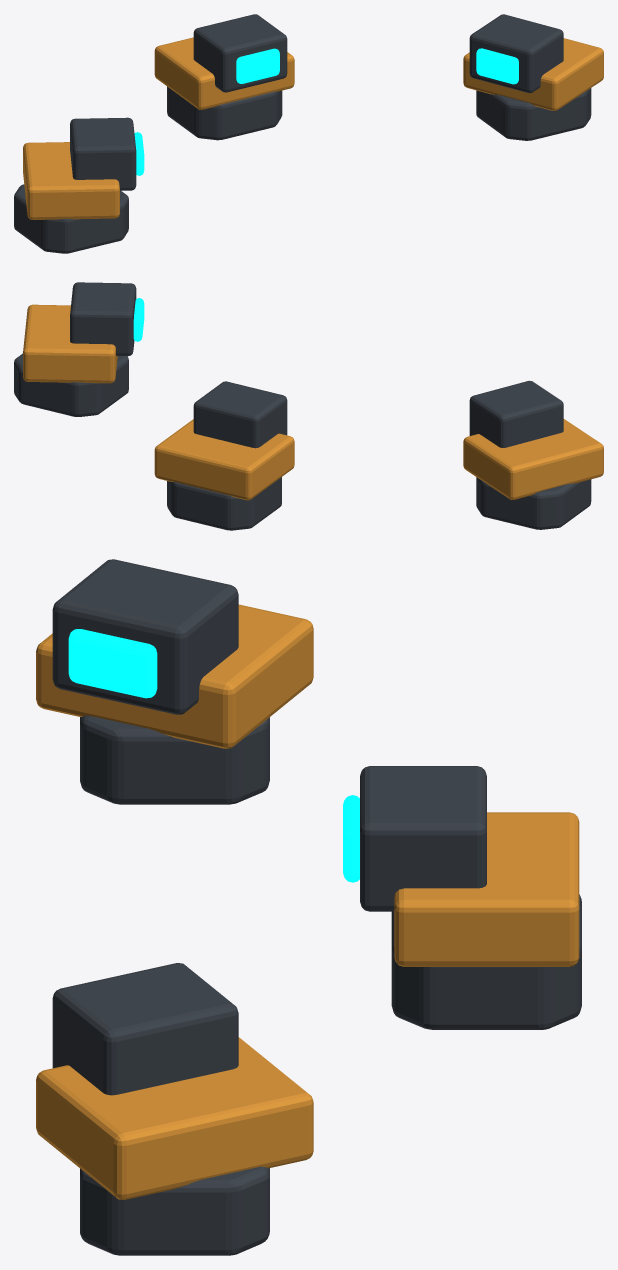
The model's file is SM_RobotCenter_FormScanner.fbx.
The picture shows the model from 3 angles, top to bottom: view 1: azimuth 30°, elevation 25°; view 2: azimuth 150°, elevation 25°; view 3: azimuth 270°, elevation 25°; orthographic projection. The views are drawn at different scales.
Visible parts, largest first — view 1: SM_RobotCenter_FormScanner.001; view 2: SM_RobotCenter_FormScanner.001; view 3: SM_RobotCenter_FormScanner.001.
Part boxes in pixels (x1,y1,x2,y2): SM_RobotCenter_FormScanner.001: [14, 14, 603, 253]; SM_RobotCenter_FormScanner.001: [14, 282, 603, 530]; SM_RobotCenter_FormScanner.001: [36, 559, 581, 1255].
Size of the model in its own units: 224 by 545 by 89.
